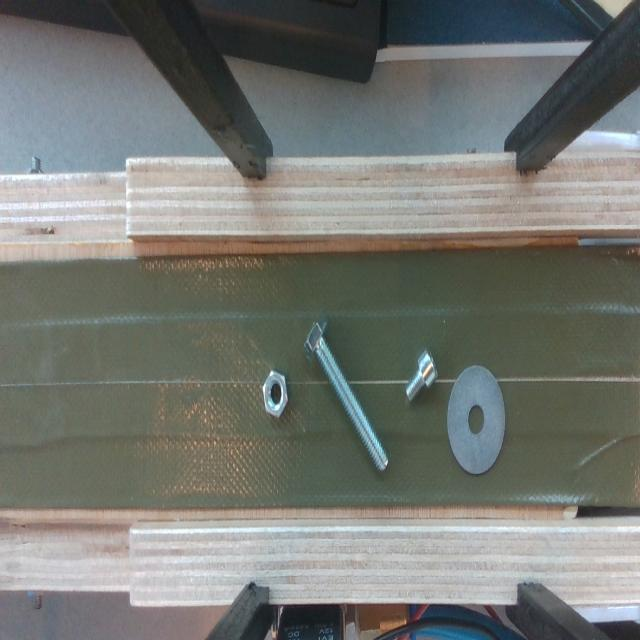Bolt: (304, 321, 388, 470), (406, 350, 438, 400)
Nut: (262, 371, 288, 418)
washer: (448, 366, 505, 473)
